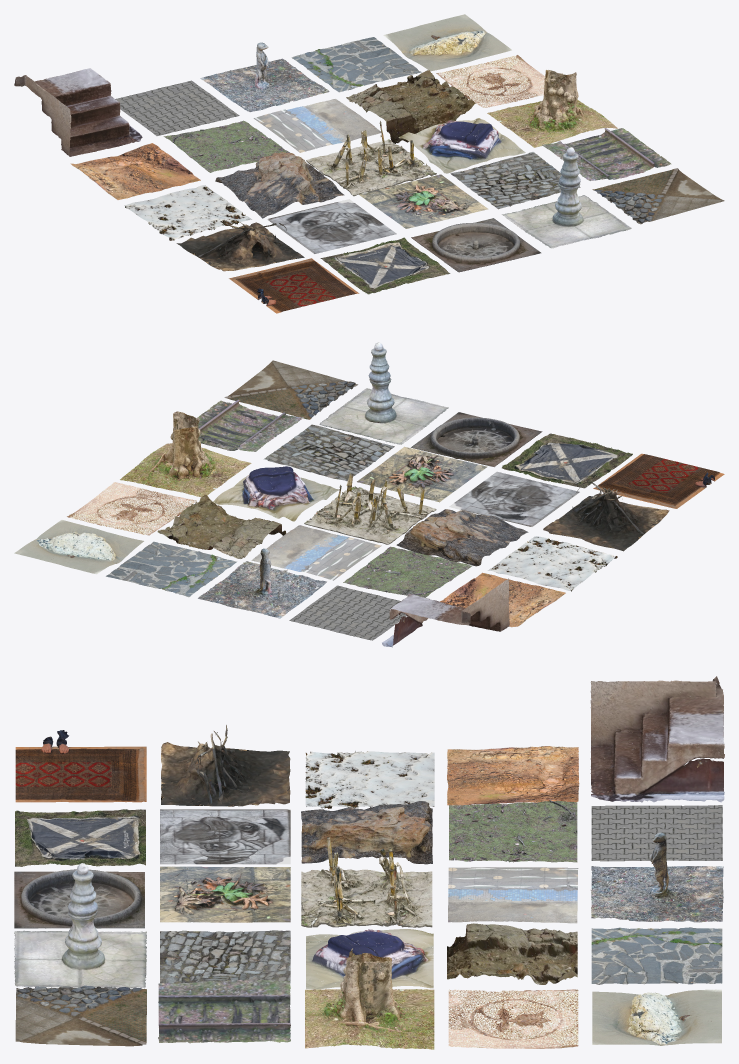
Rendered from sf-squarescanchallenge-e7de7c.glb.
The picture shows the model from 3 angles, top to bottom: view 1: azimuth 30°, elevation 25°; view 2: azimuth 150°, elevation 25°; view 3: azimuth 270°, elevation 25°; orthographic projection. The views are drawn at different scales.
Visible parts, largest first — view 1: Stairs_mesh_0, birdbath_0, ruin-road_0, sandstone-rock_0, LP:Group_Global_0, cornfield-lo-res_0, beach rock 1_0, meerkat_0, roman-soil_0, Untitled_0, fountain_0, pavajusatului_0 (+13 smaller); view 2: LP:Group_Global_0, birdbath_0, cornfield-lo-res_0, sandstone-rock_0, meerkat_0, default_0, mesh1_0, Untitled_0, cobbles_0, fountain_0, piedi.001_0, pavajusatului_0 (+13 smaller); view 3: Stairs_mesh_0, LP:Group_Global_0, birdbath_0, square_100K_0, cornfield-lo-res_0, meerkat_0, piedi.001_0, Empedrado-Flor_0, mesh1_0, default_0, mech_v_lese_tex_0, pavajusatului_0 (+13 smaller).
Part boxes in pixels (x1,y1,x2,y2): Stairs_mesh_0: (14, 68, 142, 156); birdbath_0: (501, 147, 631, 248); ruin-road_0: (346, 70, 475, 143); sandstone-rock_0: (215, 152, 344, 218); LP:Group_Global_0: (487, 70, 617, 147); cornfield-lo-res_0: (306, 121, 436, 196); beach rock 1_0: (383, 14, 511, 71); meerkat_0: (200, 42, 329, 112); roman-soil_0: (70, 143, 200, 199); Untitled_0: (320, 237, 450, 294); fountain_0: (411, 218, 540, 272); pavajusatului_0: (291, 37, 421, 92); LP:Group_Global_0: (120, 411, 251, 497); birdbath_0: (319, 342, 448, 444); cornfield-lo-res_0: (304, 473, 436, 544); sandstone-rock_0: (396, 509, 528, 566); meerkat_0: (198, 548, 326, 618); default_0: (543, 480, 669, 551); mesh1_0: (224, 360, 357, 419); Untitled_0: (502, 433, 632, 488); cobbles_0: (263, 424, 394, 481); fountain_0: (411, 412, 542, 466); piedi.001_0: (593, 453, 724, 508); pavajusatului_0: (106, 541, 236, 597); Stairs_mesh_0: (590, 676, 724, 802); LP:Group_Global_0: (305, 948, 434, 1049); birdbath_0: (14, 863, 146, 987); square_100K_0: (158, 979, 290, 1043); cornfield-lo-res_0: (301, 837, 432, 927); meerkat_0: (590, 832, 723, 922); piedi.001_0: (15, 730, 146, 802); Empedrado-Flor_0: (448, 989, 578, 1048); mesh1_0: (15, 985, 146, 1046); default_0: (161, 725, 290, 806); mech_v_lese_tex_0: (449, 800, 577, 862); pavajusatului_0: (591, 927, 722, 984).
Bounding box in the file's own units: 1.36 × 0.2452 × 1.35.
Materials: 25 (25 with a texture image).
